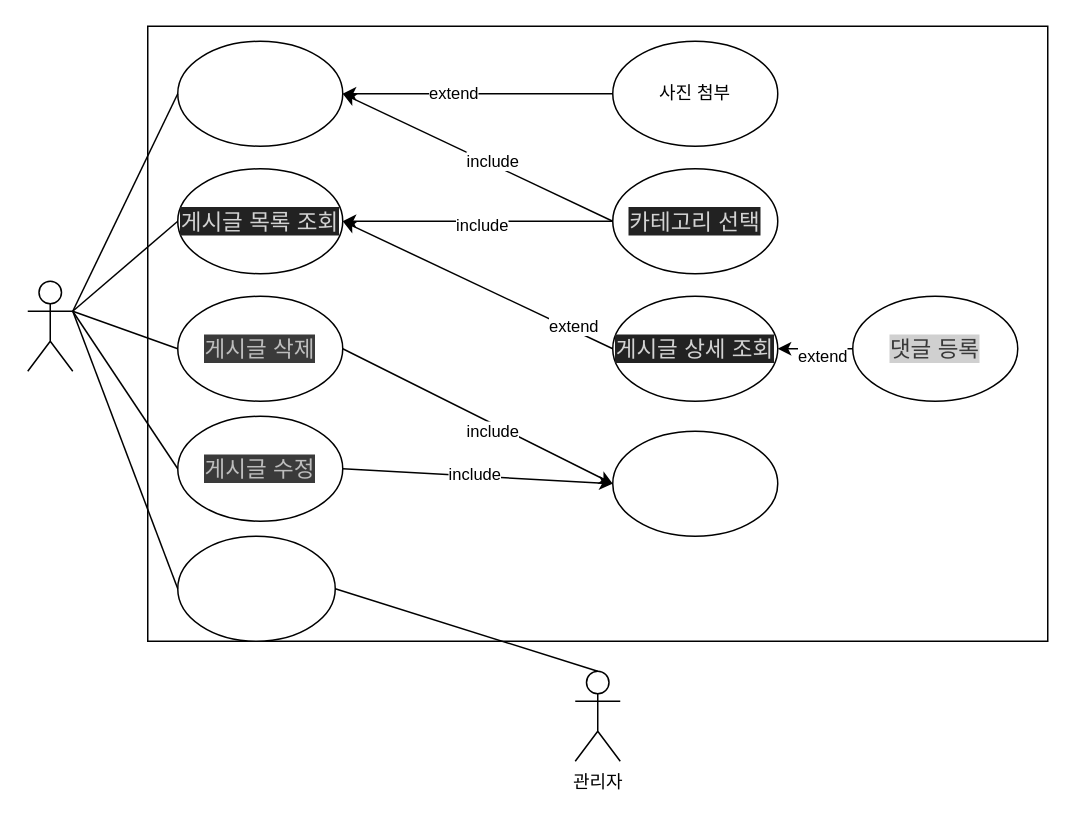
This 1074x819 diagram has some shape labels left out. Here are the shapes that lost their labels. From the top down, the box of each, then its label:
(176, 40, 343, 146): 게시글 등록
(26, 280, 73, 371): 사용자
(611, 430, 778, 536): 게시글 비밀번호 인증
(176, 535, 335, 641): 사용자 신고
